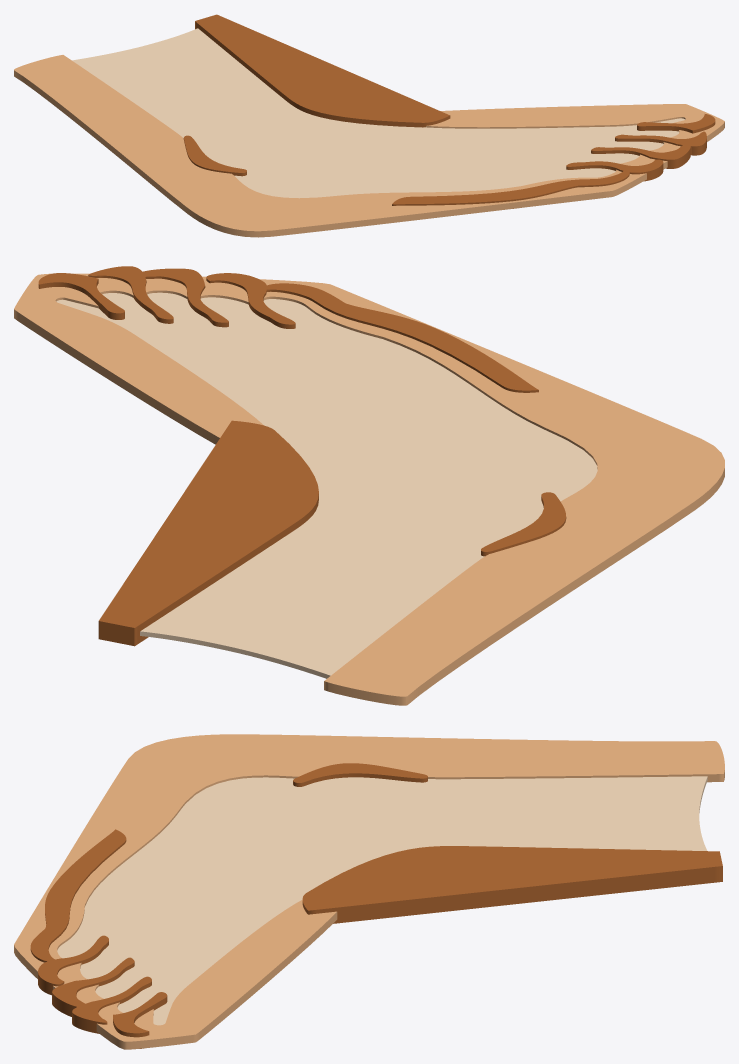
Rendered from emoji_u1f9b6_1f3fb.glb.
3 views of the same model, one above another, from view 1: azimuth 30°, elevation 25°; view 2: azimuth 150°, elevation 25°; view 3: azimuth 270°, elevation 25° (orthographic). The views are drawn at different scales.
Visible parts, largest first — view 1: emoji_u1f9b6_1f3fb; view 2: emoji_u1f9b6_1f3fb; view 3: emoji_u1f9b6_1f3fb.
Part boxes in pixels (x1,y1,x2,y2): emoji_u1f9b6_1f3fb: (14, 14, 724, 237); emoji_u1f9b6_1f3fb: (14, 266, 724, 705); emoji_u1f9b6_1f3fb: (14, 734, 724, 1049).
Size of the model in its own units: 0.0333 by 0.0008 by 0.0325.
